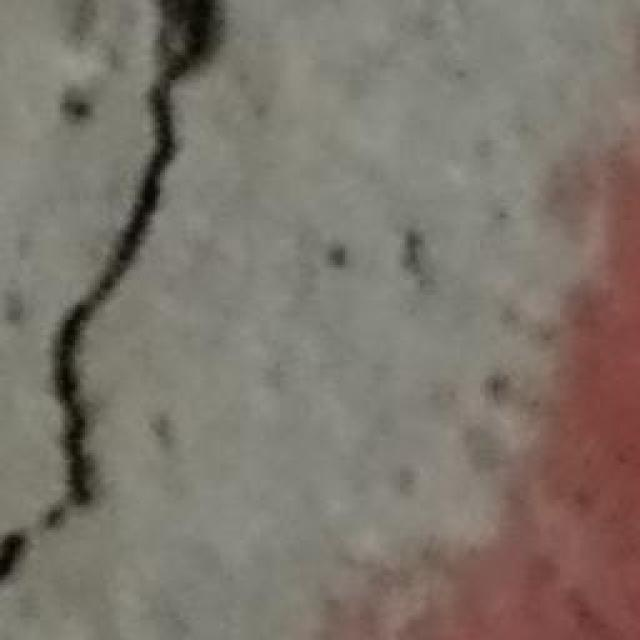Longitudinal: (0, 0, 226, 578)
